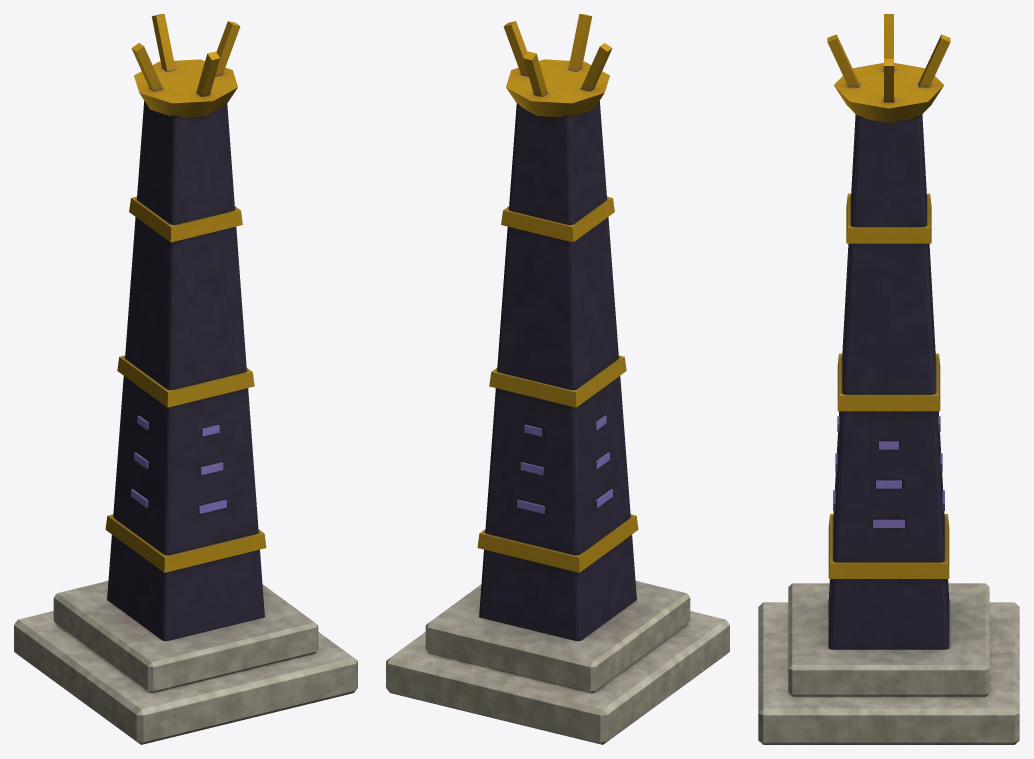
File: kit_obelisk.glb
3 views of the same model, side by side, from view 1: azimuth 30°, elevation 25°; view 2: azimuth 150°, elevation 25°; view 3: azimuth 270°, elevation 25° (orthographic). The views are drawn at different scales.
Parts seen in each view (by area): view 1: box; view 2: box; view 3: box.
Part boxes in pixels (bbox=[...]): box: bbox=[14, 14, 357, 744]; box: bbox=[386, 14, 729, 744]; box: bbox=[758, 14, 1019, 744].
Size of the model in its own units: 2.6 by 7.2 by 2.6.
Materials: 1 (1 with a texture image).
